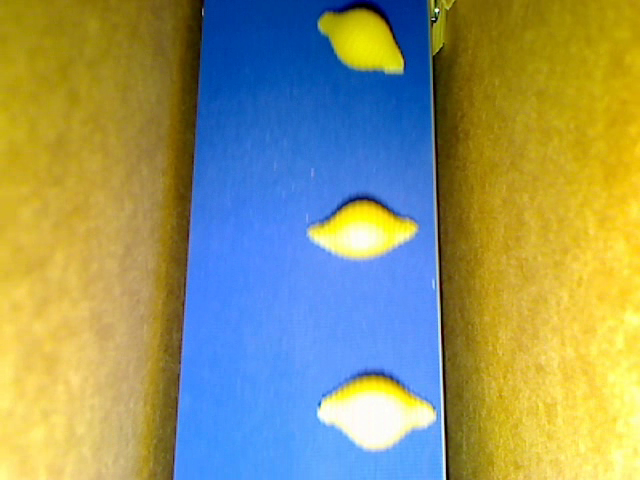penne: (428, 1, 445, 56), (439, 1, 456, 14)
shell: (319, 375, 435, 452), (304, 201, 419, 261), (320, 8, 404, 74)
